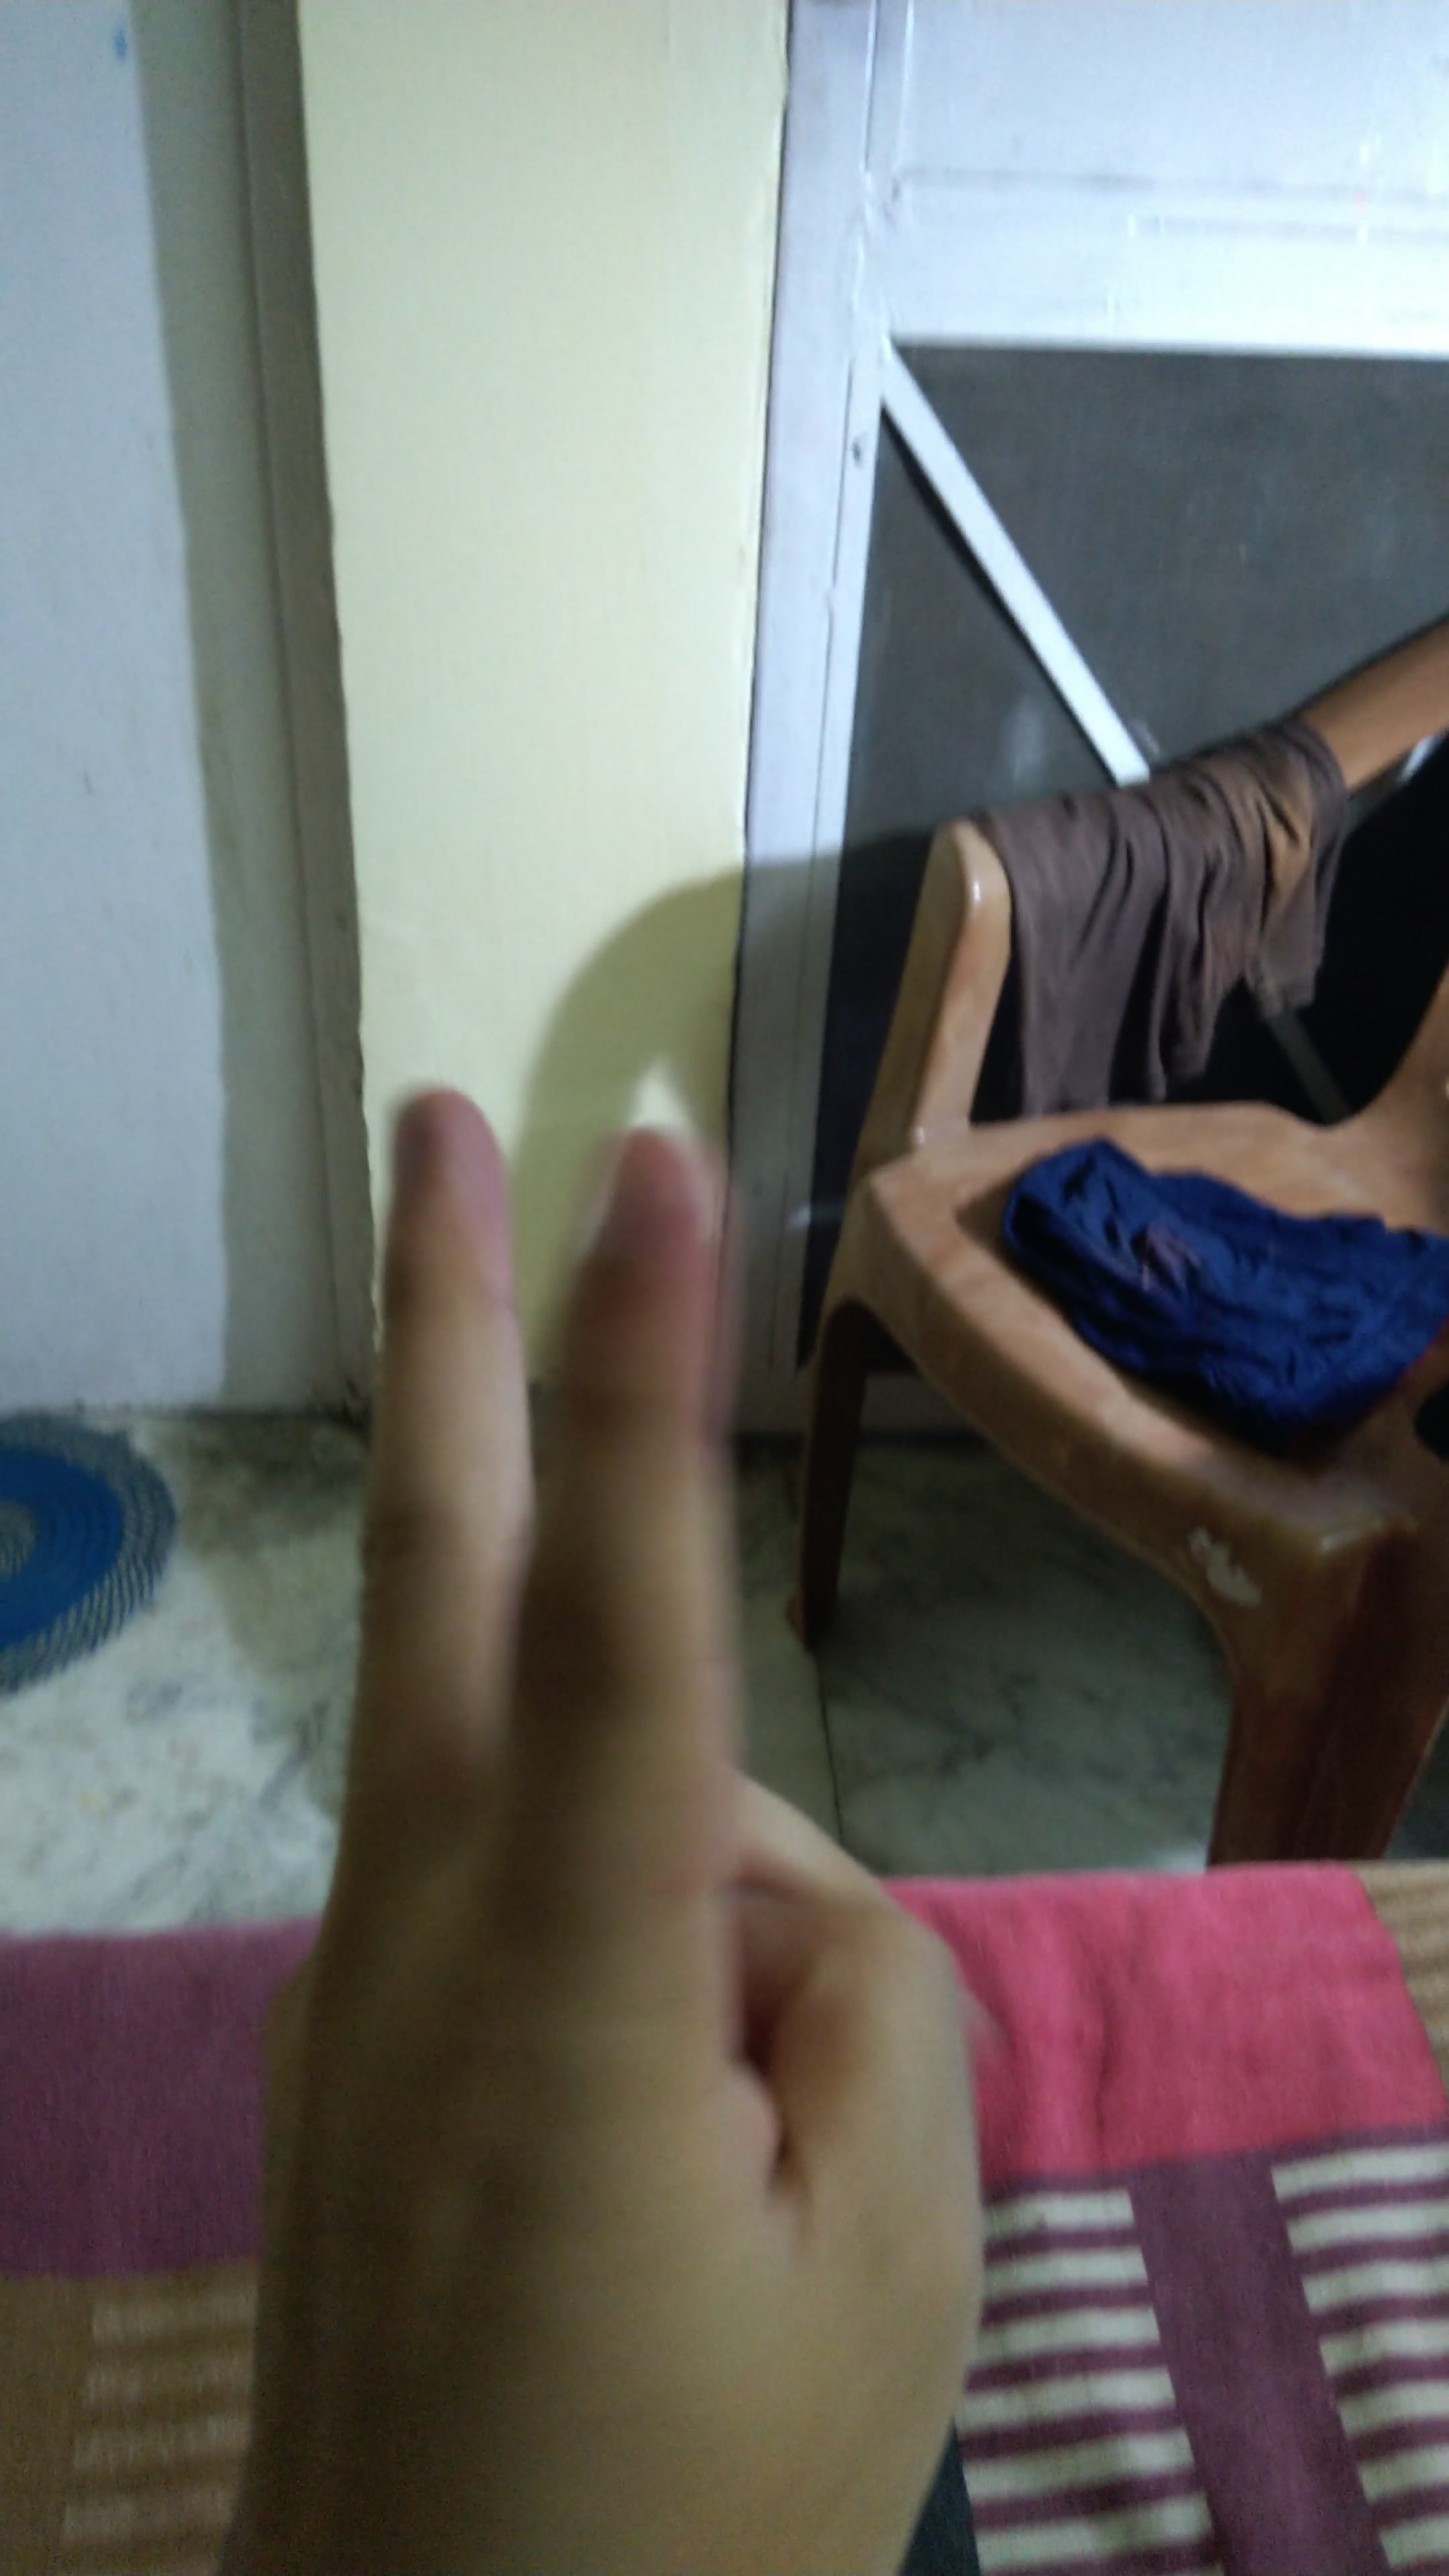hand: (186, 1039, 1108, 2479)
